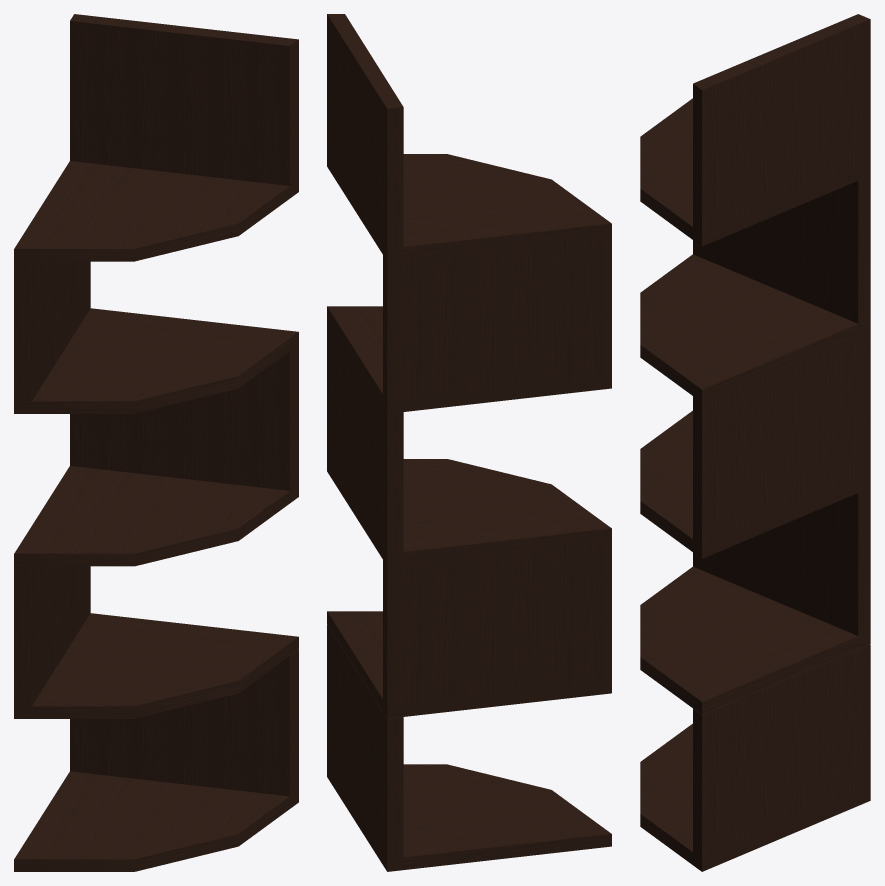
File: Corner_Shelving_02.FBX
3 renders of one model, left to right at view 1: azimuth 30°, elevation 25°; view 2: azimuth 150°, elevation 25°; view 3: azimuth 270°, elevation 25°, orthographic. The views are drawn at different scales.
Parts seen in each view (by area): view 1: Corner_Shelving; view 2: Corner_Shelving; view 3: Corner_Shelving.
Part boxes in pixels (left/top/right/bottom): Corner_Shelving: left=14, top=14, right=298, bottom=871; Corner_Shelving: left=327, top=14, right=611, bottom=871; Corner_Shelving: left=640, top=14, right=870, bottom=871.
Size of the model in its own units: 141 by 362 by 96.59.
